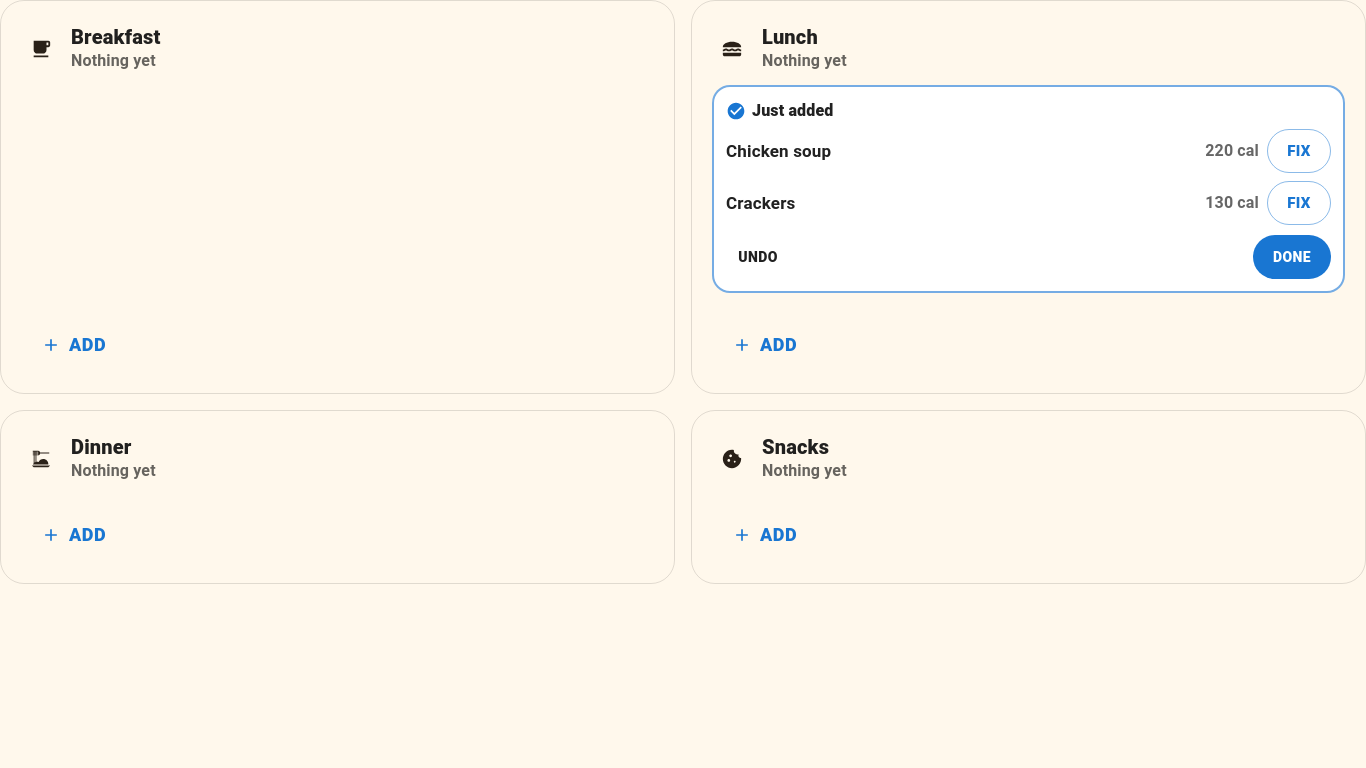
Test: the "Just added" strip › Fix opens the one small sheet, and a new number shows on the strip
Click the button with aria-label "Fix Chicken soup" at x=1299, y=151, box [1267,129,1331,173]
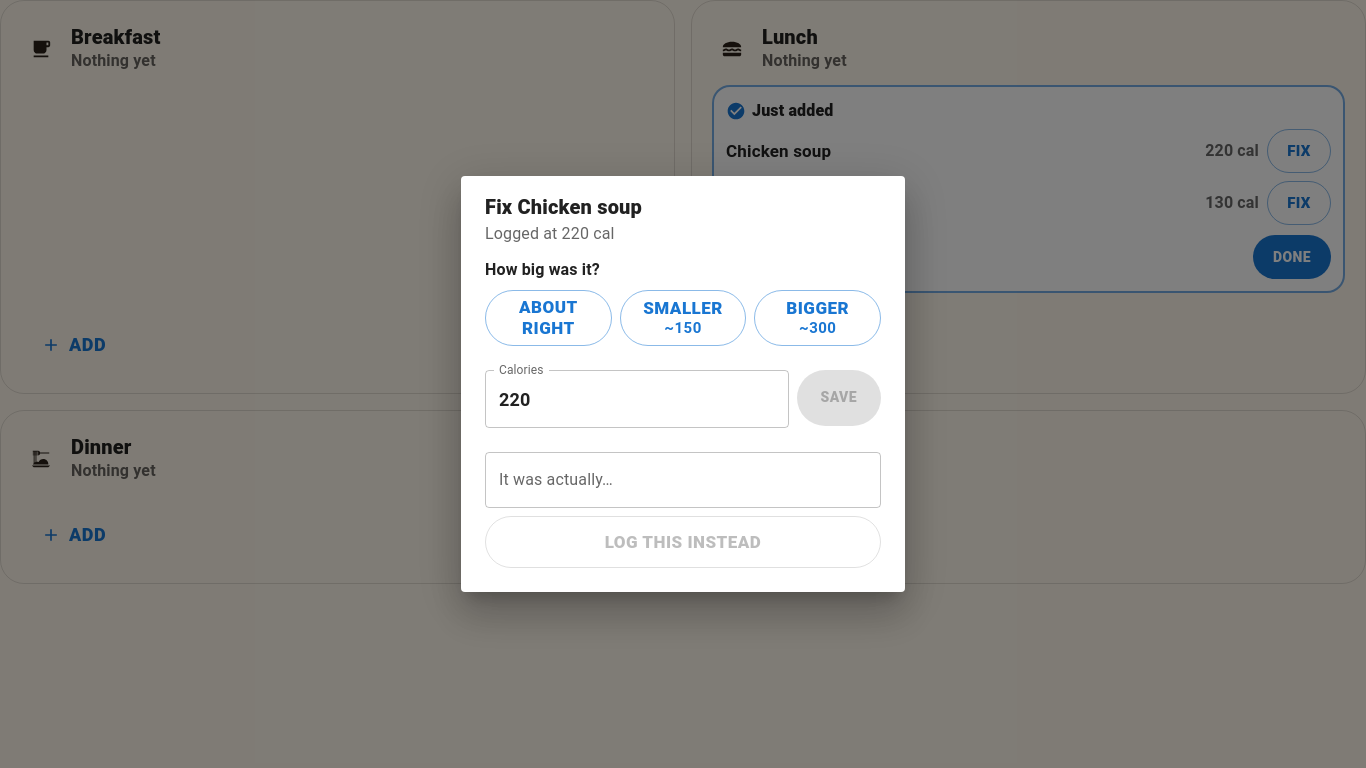
Replace the text in the field labelled "Calories" with "300" at x=637, y=399, box [485,370,788,428]
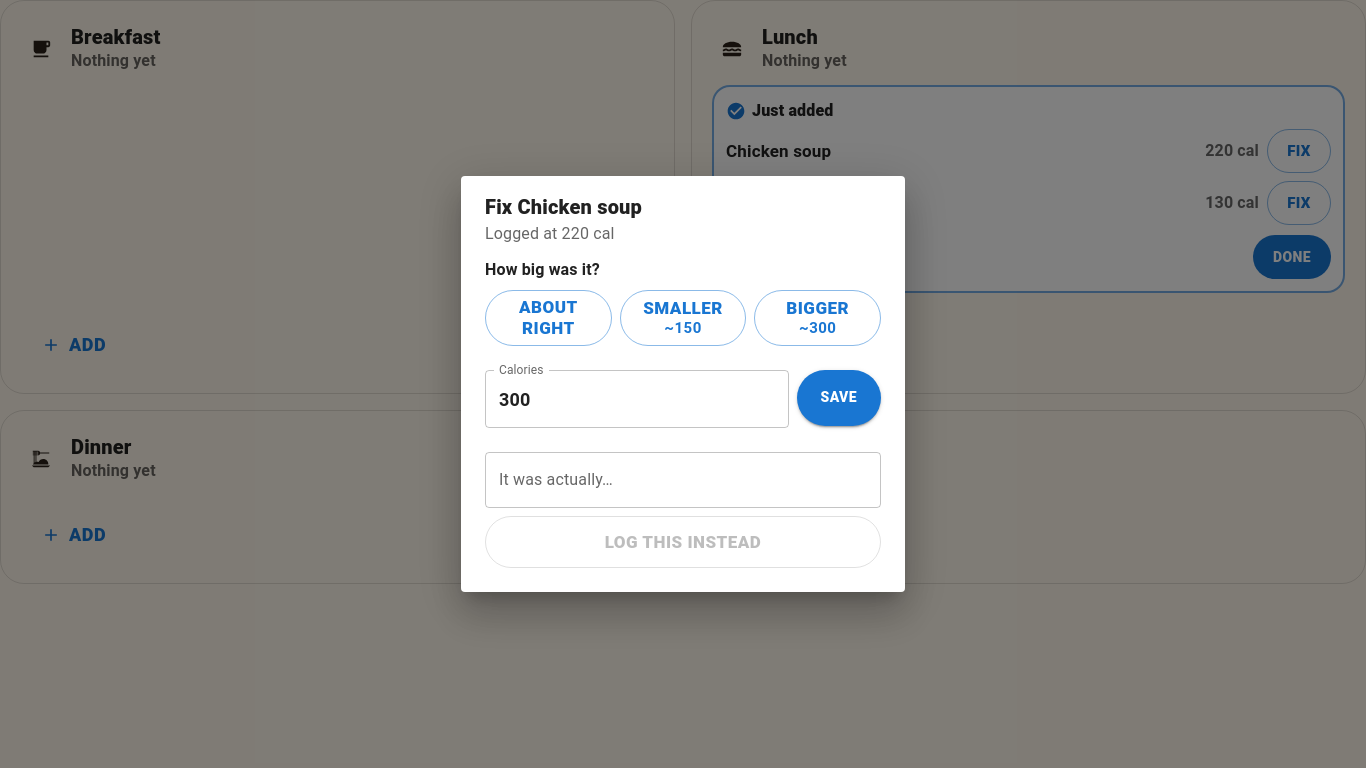
Click the button "Save" at x=839, y=398, box [796,370,881,426]
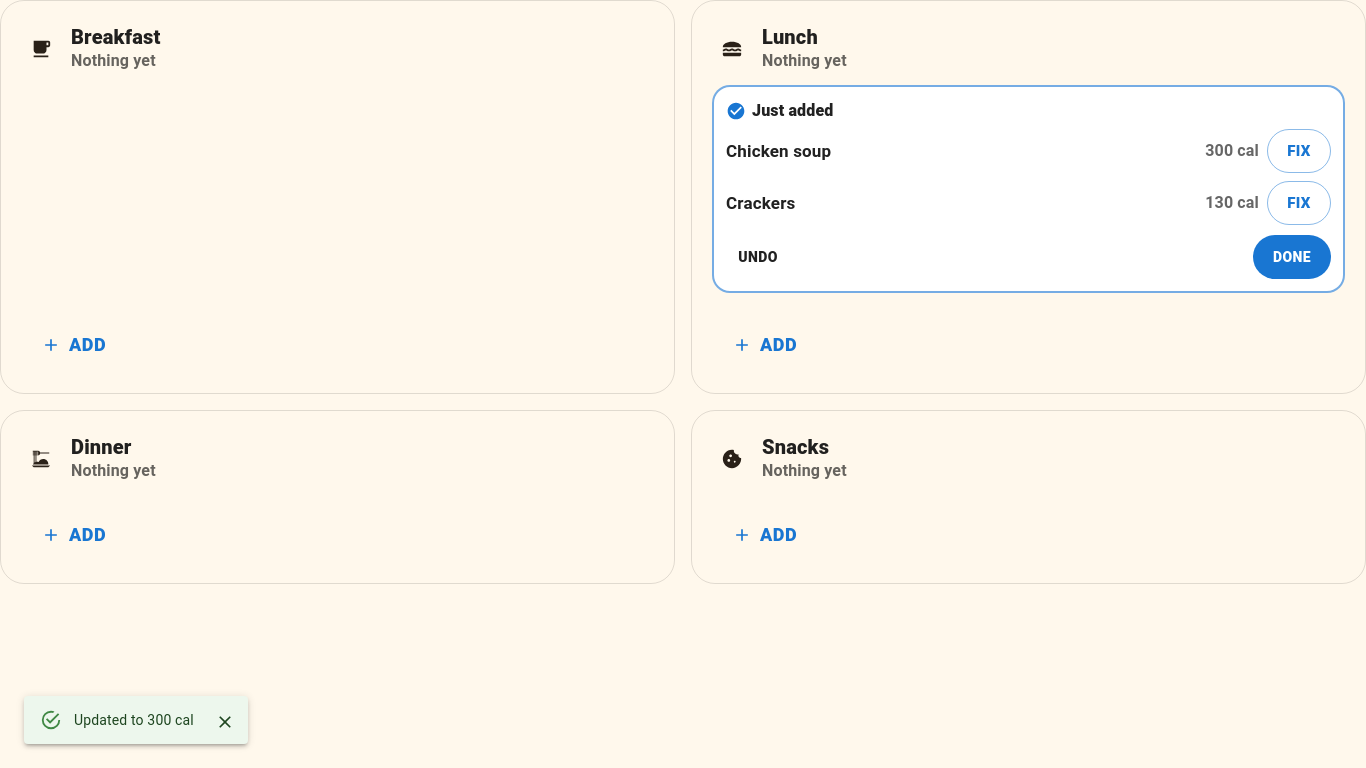
Expected: the list item with test id "entry-row" shows "300 cal", [726,127,1331,175]
